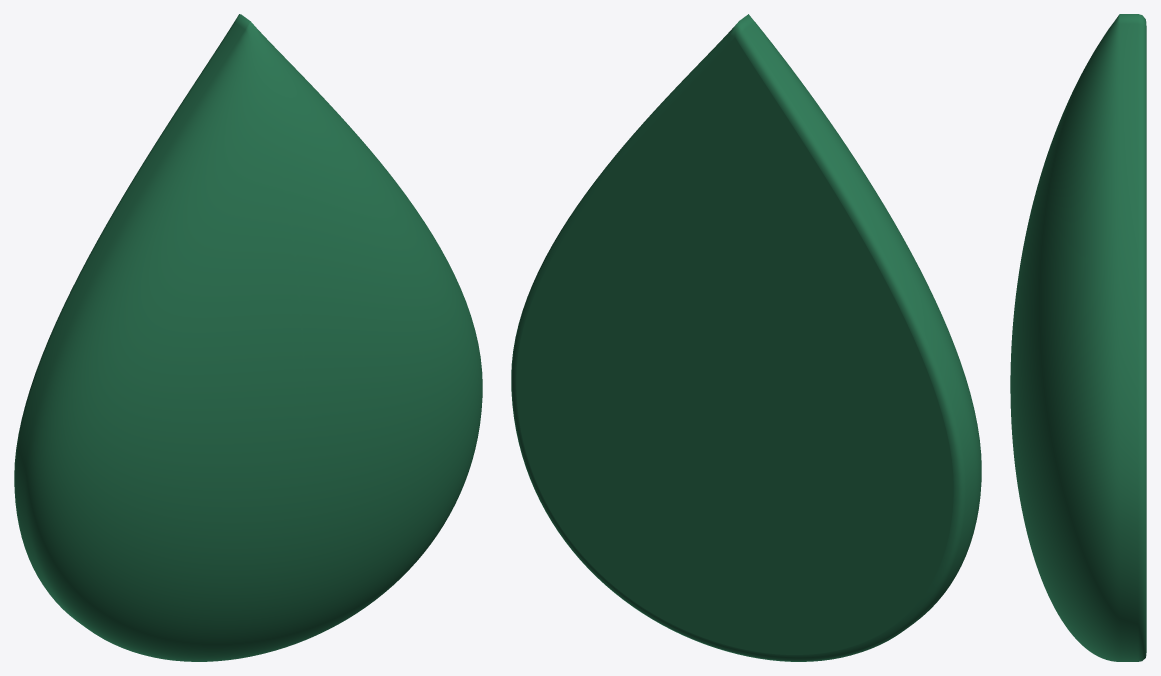
File: teardrop.glb
The picture shows the model from 3 angles, left to right: view 1: azimuth 30°, elevation 25°; view 2: azimuth 150°, elevation 25°; view 3: azimuth 270°, elevation 25°; orthographic projection. The views are drawn at different scales.
Visible parts, largest first — view 1: Teardrop Cabochon 20x15x4mm; view 2: Teardrop Cabochon 20x15x4mm; view 3: Teardrop Cabochon 20x15x4mm.
Boxes of the visible parts, left/top/right/bottom form: Teardrop Cabochon 20x15x4mm: left=14, top=14, right=482, bottom=661; Teardrop Cabochon 20x15x4mm: left=511, top=14, right=981, bottom=661; Teardrop Cabochon 20x15x4mm: left=1010, top=14, right=1146, bottom=661.
Size of the model in its own units: 0.015 by 0.02 by 0.00398.
